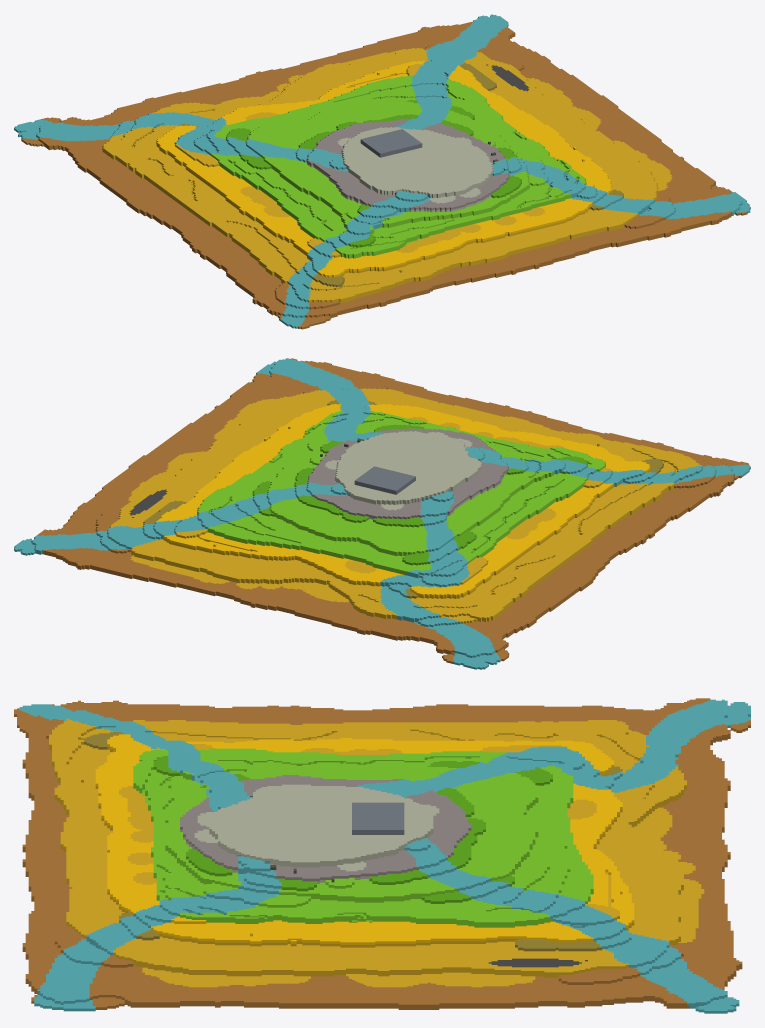
Rendered from Island.obj.
The picture shows the model from 3 angles, top to bottom: view 1: azimuth 30°, elevation 25°; view 2: azimuth 150°, elevation 25°; view 3: azimuth 270°, elevation 25°; orthographic projection. The views are drawn at different scales.
Size of the model in its own units: 25.4 by 1.6 by 25.3.
1 material, 1 textured.
